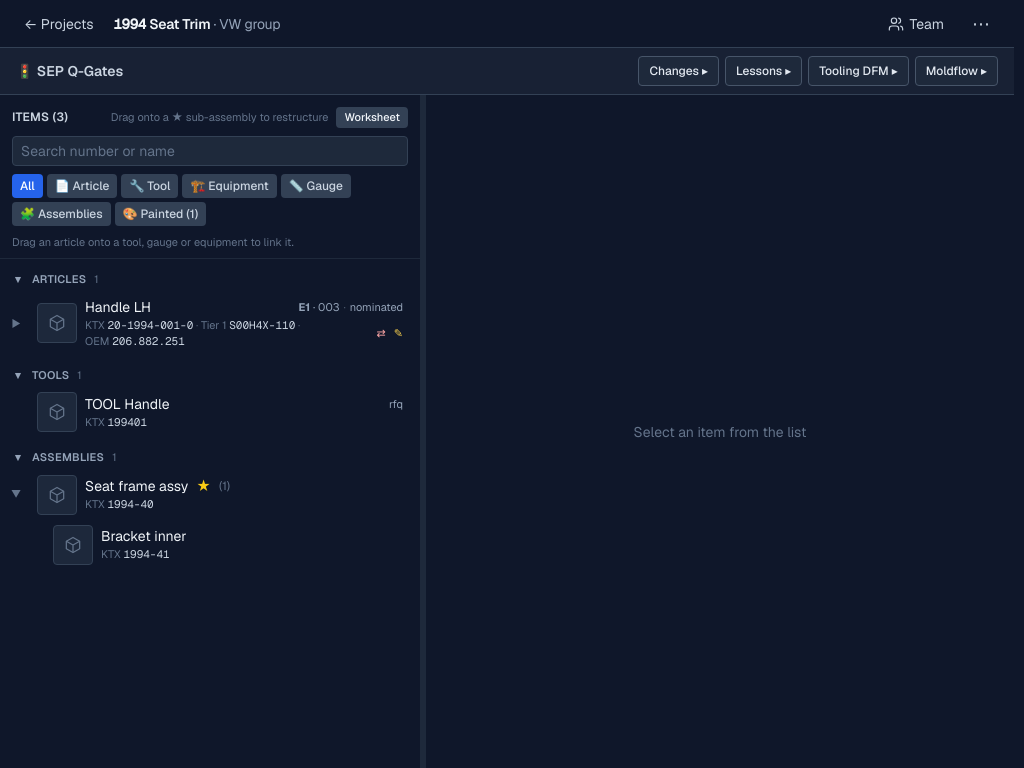
it: grouped slim item rows › search finds a part nested under an assembly whose own name does not match
This screenshot has width=1024, height=768.
expect the button with test id "item-row-41" is shown: met, box top-left (44, 520), bottom-right (412, 570)
Step 1. Type "bracket" into the search field named "Search items" → (210, 150), box top-left (12, 136), bottom-right (408, 166)
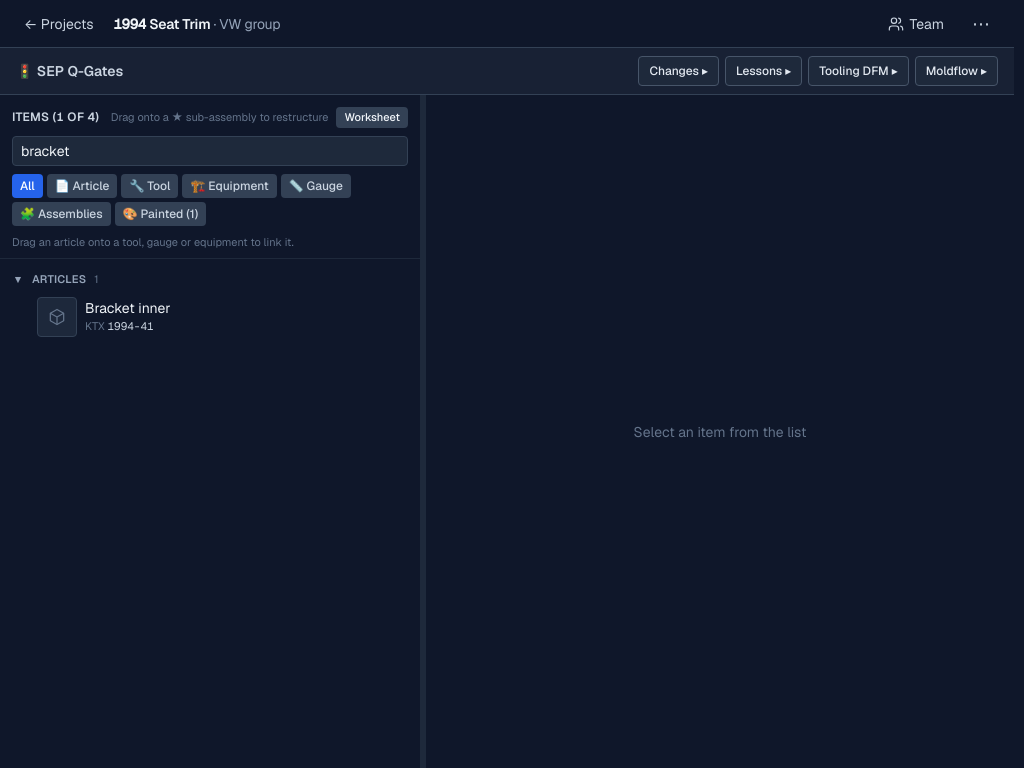
expect the button with test id "item-row-41" is shown: met, box top-left (28, 292), bottom-right (412, 342)
expect the heading "Items (1 of 4)" is shown: met, box top-left (12, 109), bottom-right (99, 125)
expect the button with test id "item-row-40" is gone: met
Step 2. Clear the search field named "Search items" → (210, 150), box top-left (12, 136), bottom-right (408, 166)
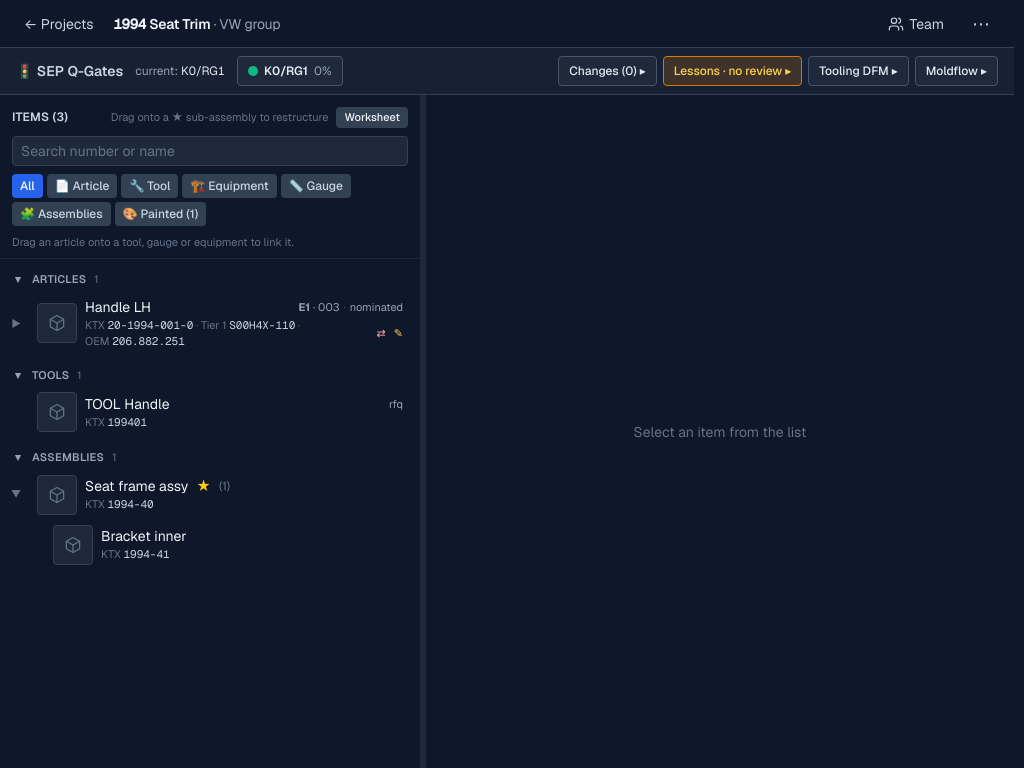
expect the button with test id "item-row-40" is shown: met, box top-left (28, 470), bottom-right (412, 520)
